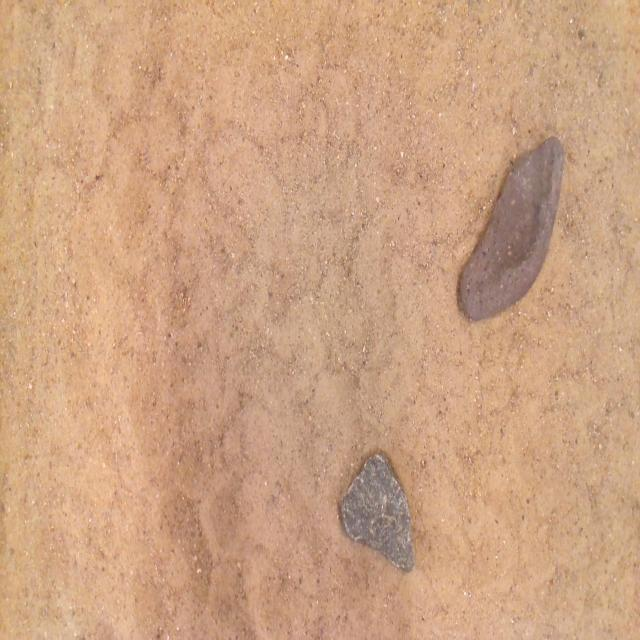rock: (458, 137, 564, 320), (341, 453, 414, 571)
